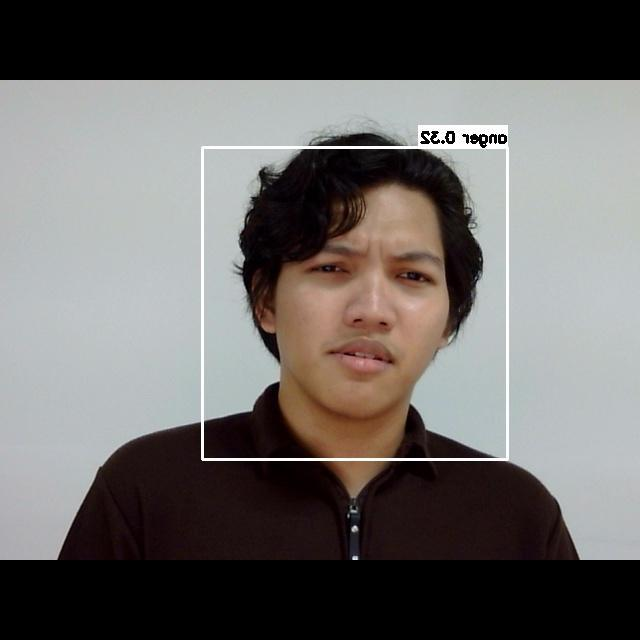Fear: (279, 217, 455, 411)
